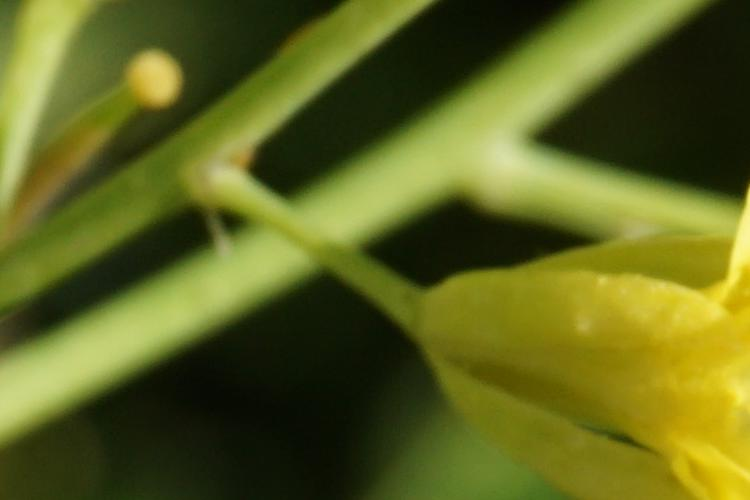pod: (24, 44, 198, 236)
yellow: (419, 259, 749, 500)
